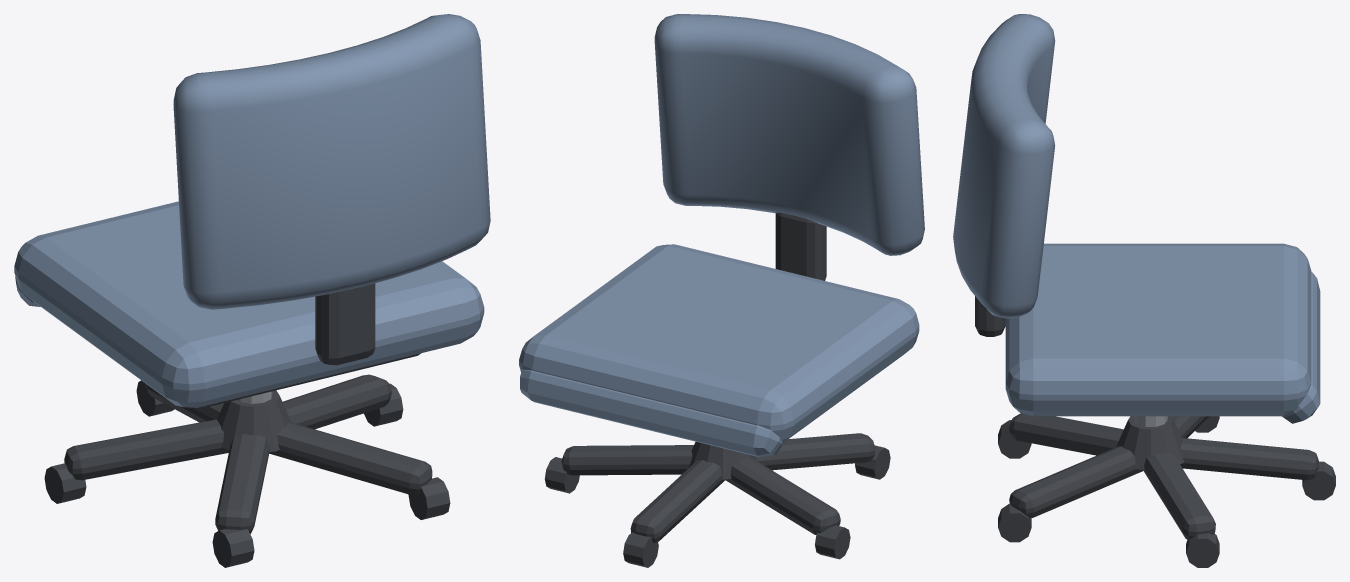
Rendered from chair_a.glb.
3 renders of one model, left to right at view 1: azimuth 30°, elevation 25°; view 2: azimuth 150°, elevation 25°; view 3: azimuth 270°, elevation 25°, orthographic. The views are drawn at different scales.
Parts seen in each view (by area): view 1: Chair, ChairBack; view 2: Chair, ChairBack; view 3: Chair, ChairBack.
Part boxes in pixels (left/top/right/bottom): Chair: left=14, top=201, right=484, bottom=567; ChairBack: left=173, top=14, right=490, bottom=309; Chair: left=519, top=212, right=919, bottom=567; ChairBack: left=654, top=14, right=924, bottom=255; Chair: left=975, top=243, right=1335, bottom=567; ChairBack: left=953, top=14, right=1055, bottom=318.
Size of the model in its own units: 0.4485 by 0.6189 by 0.5008.
